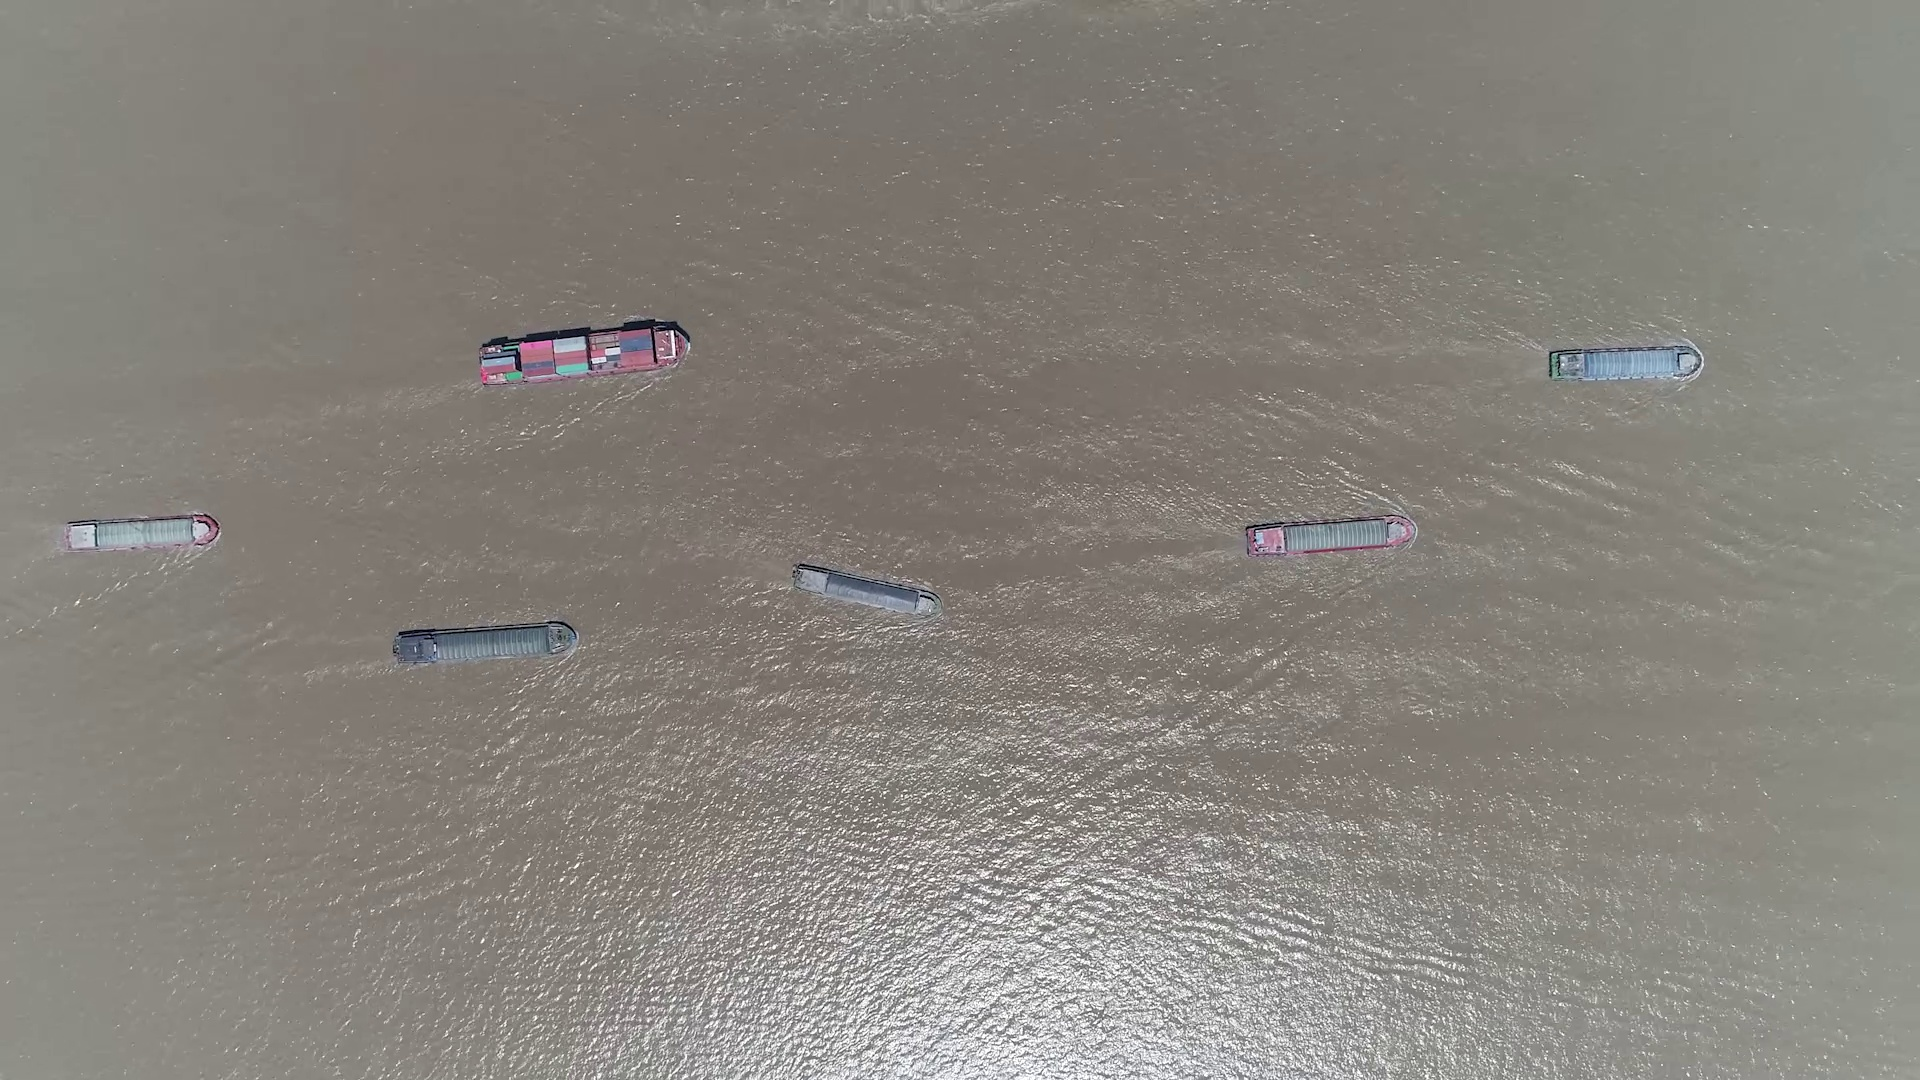ship: (477, 322, 690, 389), (791, 562, 938, 618), (394, 620, 578, 665), (1244, 516, 1418, 556), (63, 516, 218, 550), (1549, 348, 1702, 382)
